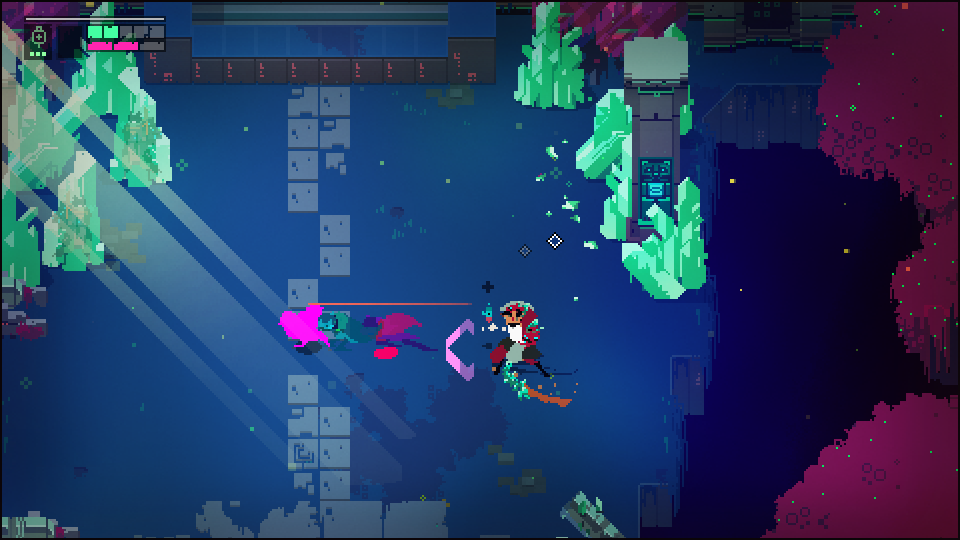hanged_man: (481, 294, 545, 406)
player: (278, 302, 334, 354)
